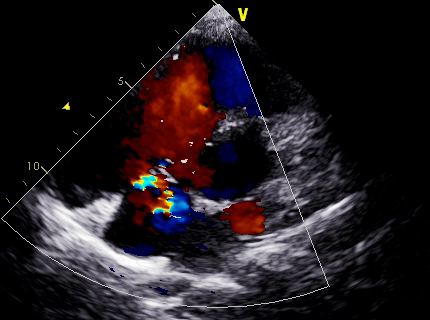TR: (121, 130, 203, 229)
